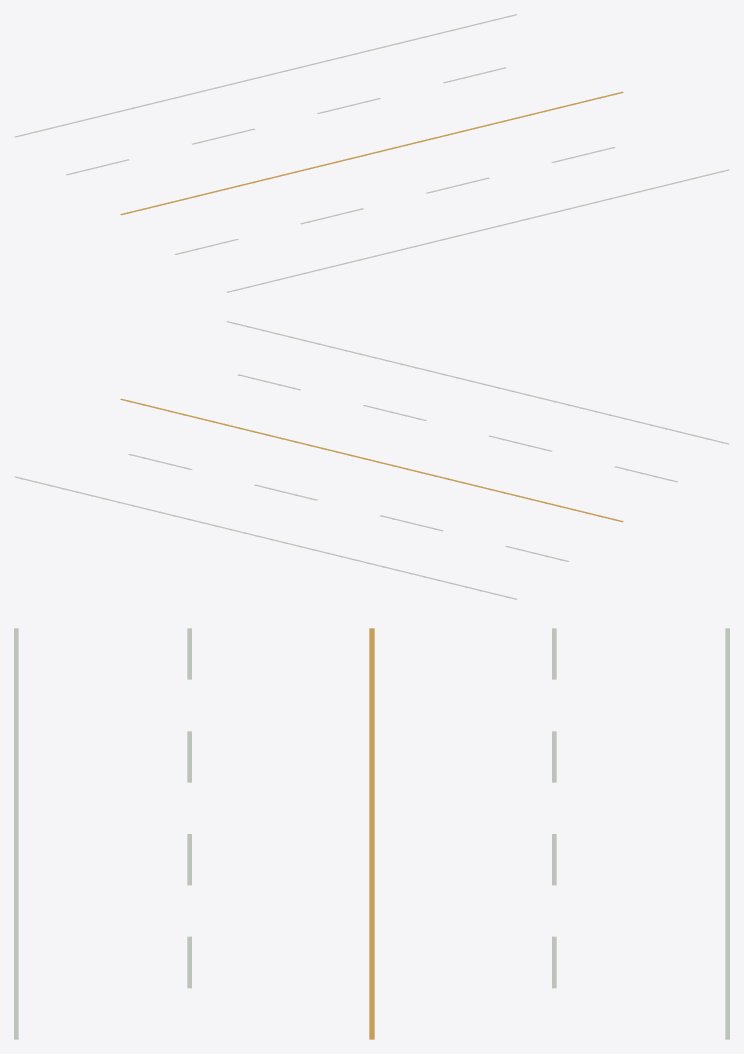
The model's file is RoadPlan_Marking_4L_L16.glb.
3 views of the same model, one above another, from view 1: azimuth 30°, elevation 25°; view 2: azimuth 150°, elevation 25°; view 3: azimuth 270°, elevation 25° (orthographic). The views are drawn at different scales.
Visible parts, largest first — view 1: RoadPlan_Marking_4L_L16_Center, RoadPlan_Marking_4L_L16_EdgeRight, RoadPlan_Marking_4L_L16_EdgeLeft, RoadPlan_Marking_4L_L16_LaneLeft, RoadPlan_Marking_4L_L16_LaneRight; view 2: RoadPlan_Marking_4L_L16_Center, RoadPlan_Marking_4L_L16_EdgeRight, RoadPlan_Marking_4L_L16_EdgeLeft, RoadPlan_Marking_4L_L16_LaneRight, RoadPlan_Marking_4L_L16_LaneLeft; view 3: RoadPlan_Marking_4L_L16_Center, RoadPlan_Marking_4L_L16_EdgeRight, RoadPlan_Marking_4L_L16_EdgeLeft, RoadPlan_Marking_4L_L16_LaneRight, RoadPlan_Marking_4L_L16_LaneLeft.
Part boxes in pixels (bbox=[...]): RoadPlan_Marking_4L_L16_Center: bbox=[120, 91, 623, 215]; RoadPlan_Marking_4L_L16_EdgeRight: bbox=[226, 169, 729, 292]; RoadPlan_Marking_4L_L16_EdgeLeft: bbox=[14, 14, 517, 137]; RoadPlan_Marking_4L_L16_LaneLeft: bbox=[66, 67, 506, 175]; RoadPlan_Marking_4L_L16_LaneRight: bbox=[175, 147, 615, 254]; RoadPlan_Marking_4L_L16_Center: bbox=[120, 398, 623, 522]; RoadPlan_Marking_4L_L16_EdgeRight: bbox=[226, 321, 729, 444]; RoadPlan_Marking_4L_L16_EdgeLeft: bbox=[14, 476, 517, 599]; RoadPlan_Marking_4L_L16_LaneRight: bbox=[237, 374, 677, 482]; RoadPlan_Marking_4L_L16_LaneLeft: bbox=[128, 454, 568, 561]; RoadPlan_Marking_4L_L16_Center: bbox=[369, 628, 374, 1039]; RoadPlan_Marking_4L_L16_EdgeRight: bbox=[14, 628, 18, 1039]; RoadPlan_Marking_4L_L16_EdgeLeft: bbox=[725, 628, 729, 1039]; RoadPlan_Marking_4L_L16_LaneRight: bbox=[187, 628, 191, 988]; RoadPlan_Marking_4L_L16_LaneLeft: bbox=[552, 628, 556, 988].
Size of the model in its own units: 16 by 0.0007 by 11.77.
